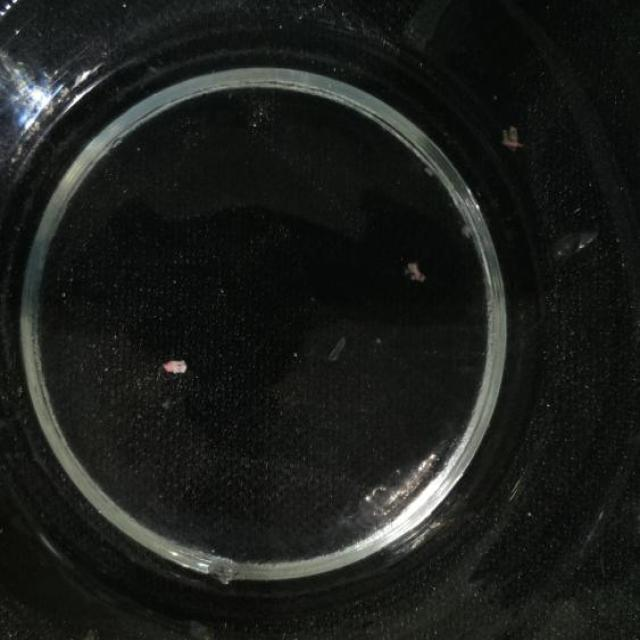fiber: (325, 336, 353, 368), (160, 357, 190, 382), (407, 258, 429, 290), (504, 125, 523, 151)
